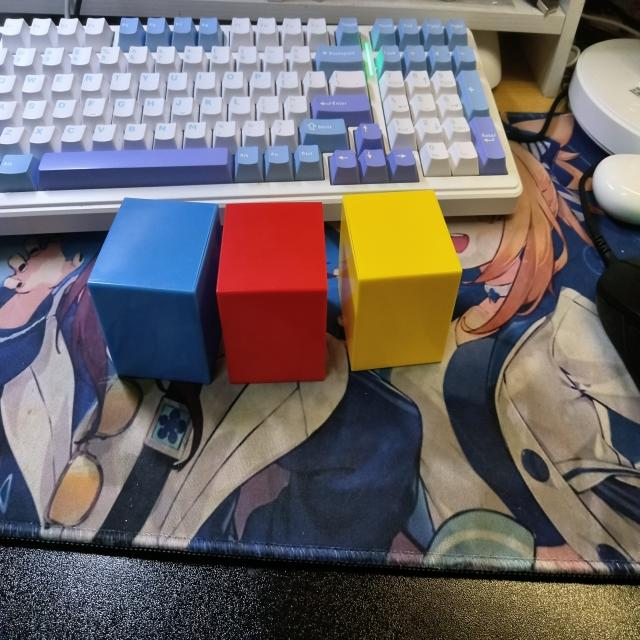blue: (86, 197, 227, 387)
red: (214, 203, 329, 387)
yellow: (338, 188, 462, 375)
